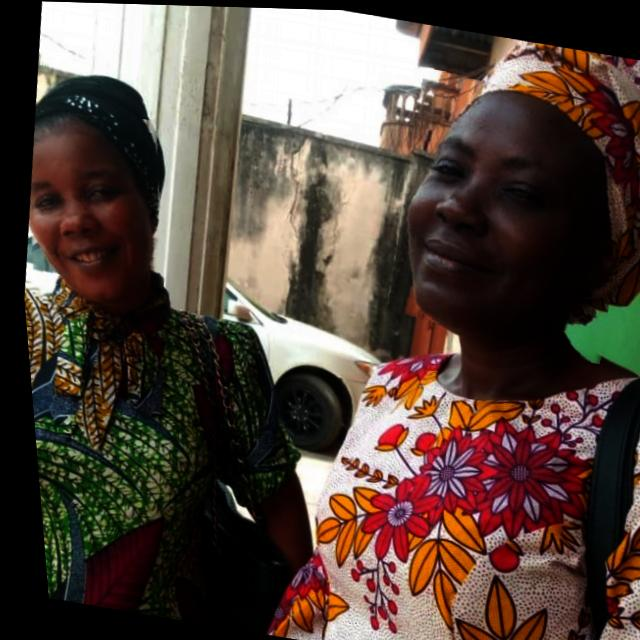happy: (370, 66, 640, 361), (7, 102, 180, 321)
